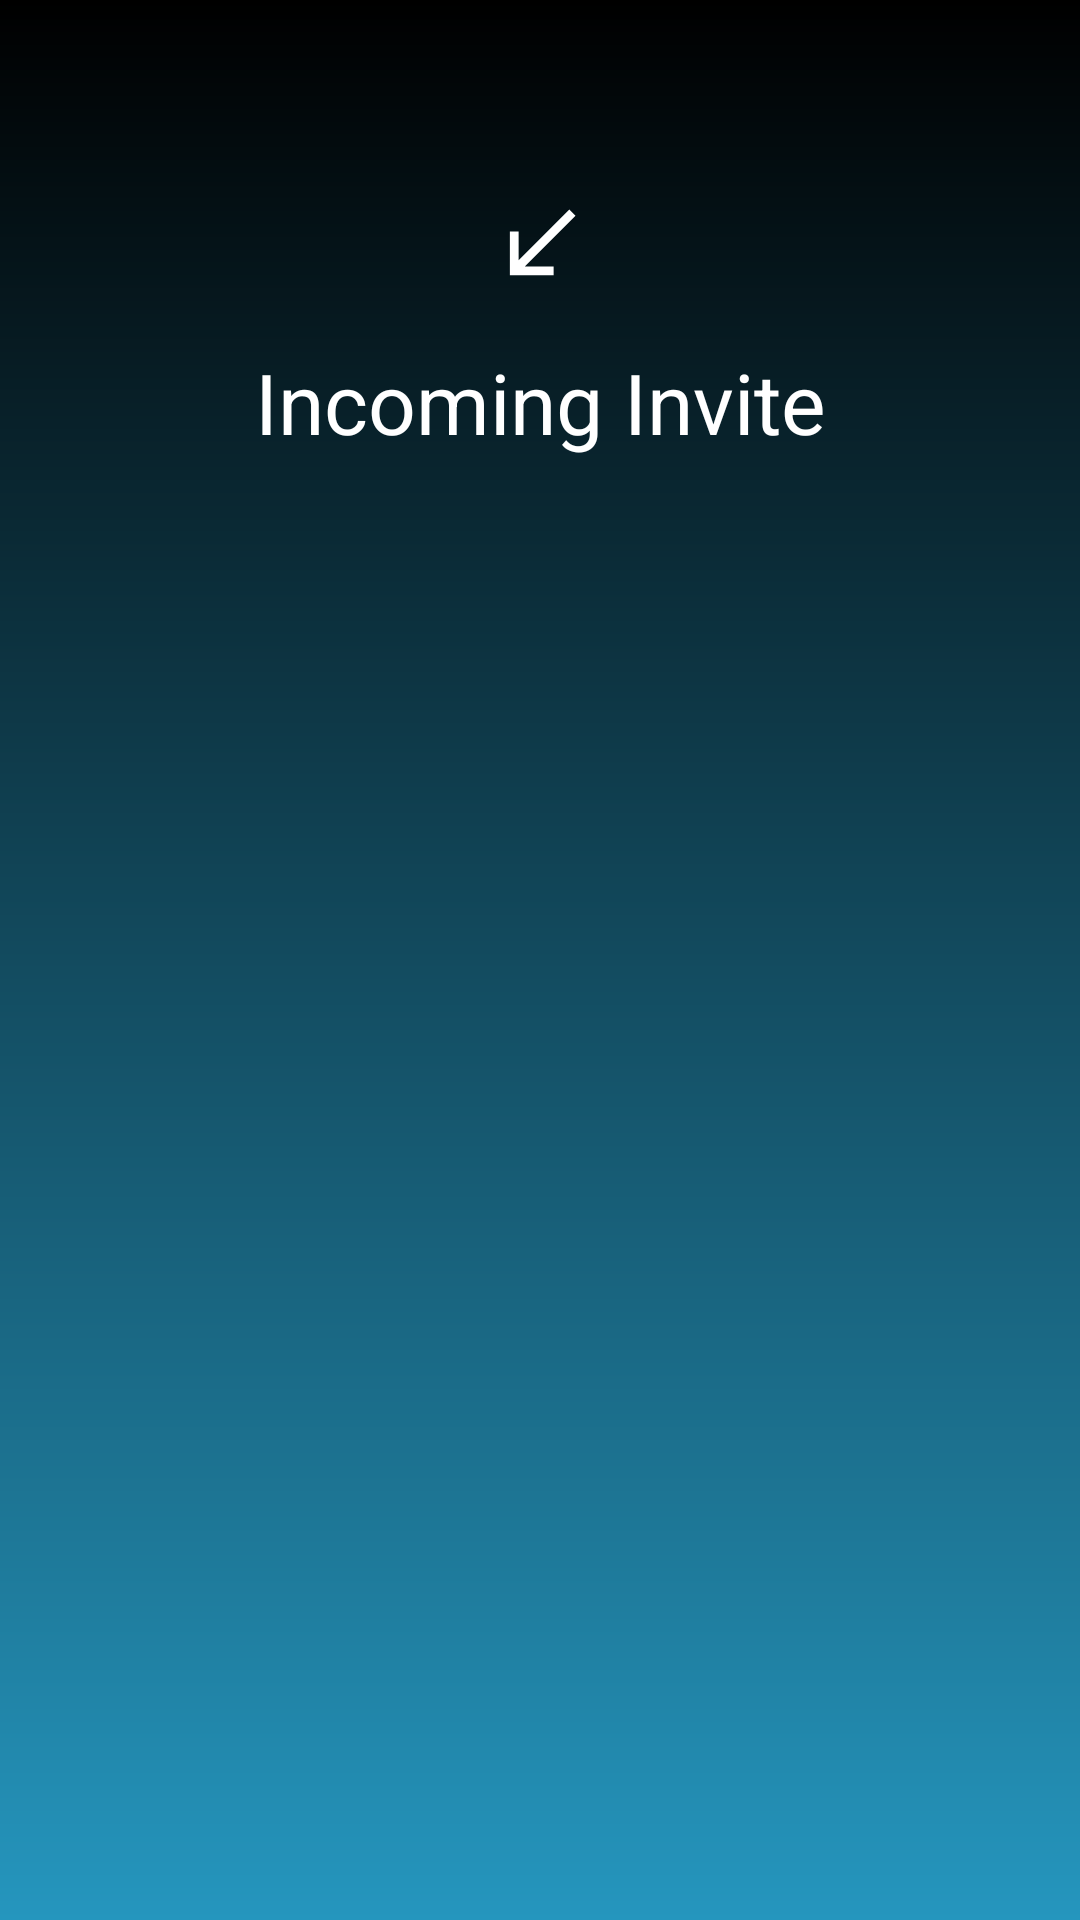

Locate icon controls on the screen. Image size 1080px x 1920px, boxes as [x1,y1,x2,y2].
call receive: [509,209,576,276]
